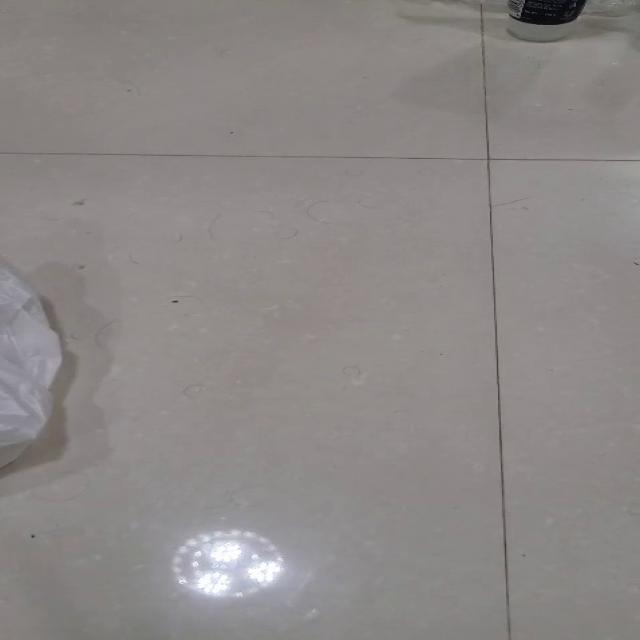plastic: (0, 258, 63, 468)
